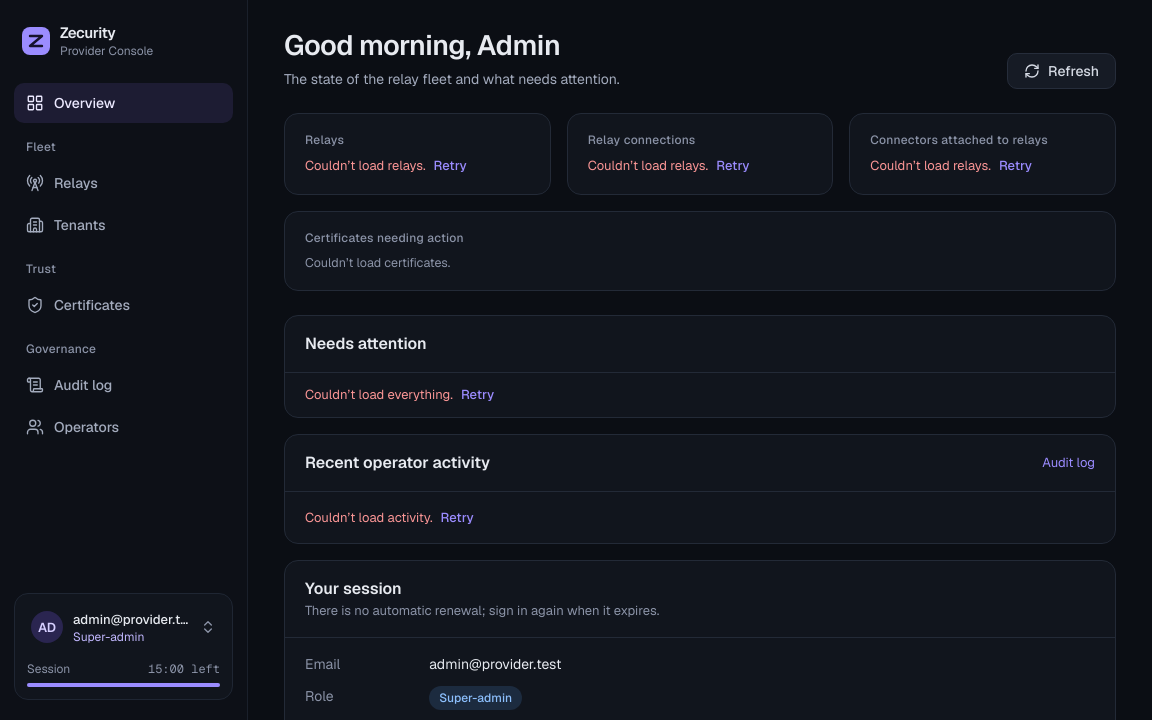
Test case: Layout › account menu → Change password opens the voluntary change
Click the button with aria-label "Account menu".
click(124, 627)  # box [27,606,220,649]
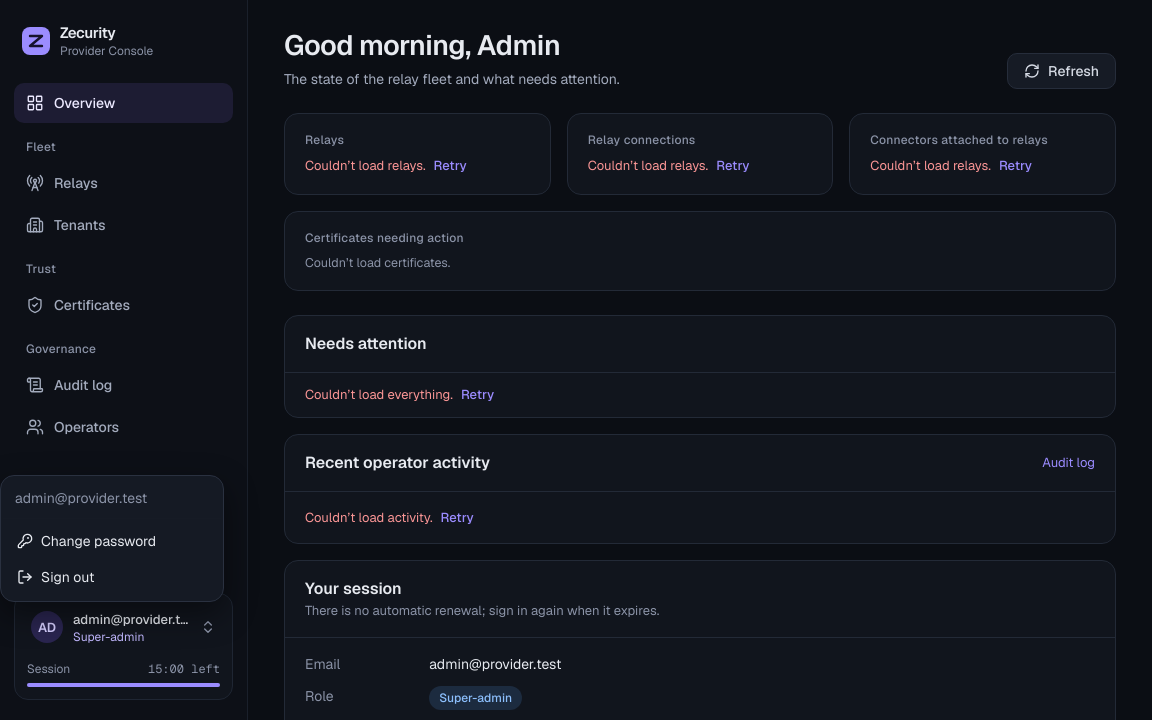
Click the menu item "Change password".
click(87, 541)  # box [17,532,156,550]
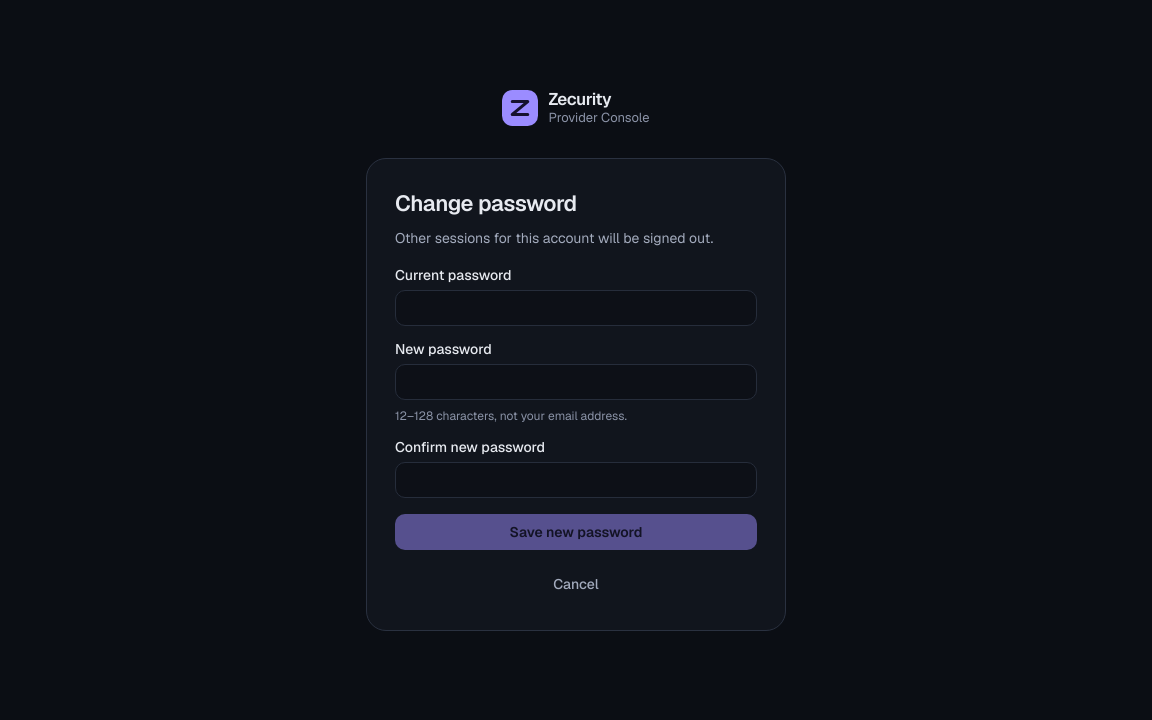
Expected: the heading "Change password" is shown, [395,189,577,217]
